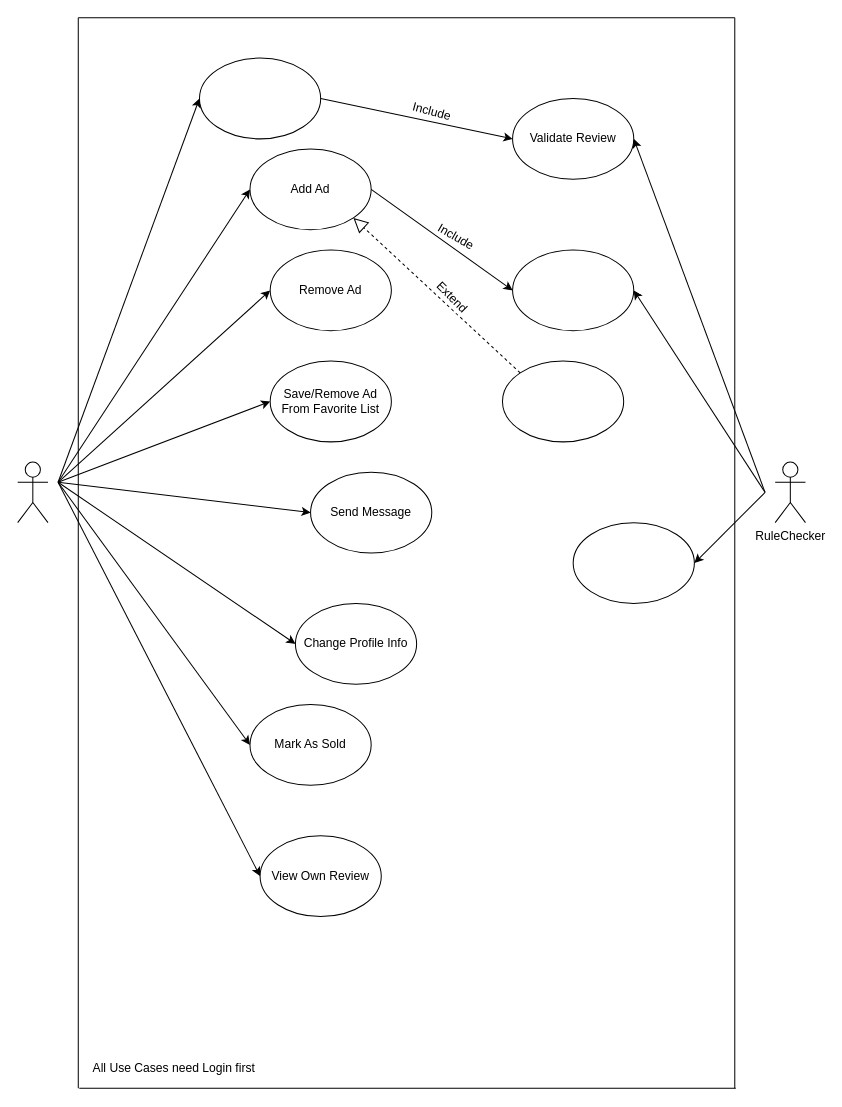
Some shapes in this 842 by 1107 pixel diagram are drawn without their labels. Here are the shapes that lost their labels. From the top down, the centre of each, then its label:
[259,98]: Write Review
[573,290]: Validate Ad
[562,401]: Highlight Ad
[32,492]: User
[633,562]: Report User/Ad
